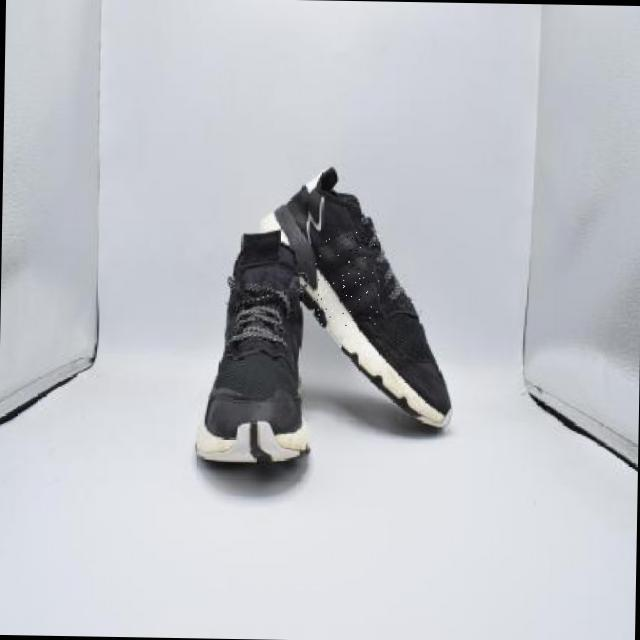Adidas: (313, 230, 380, 327)
